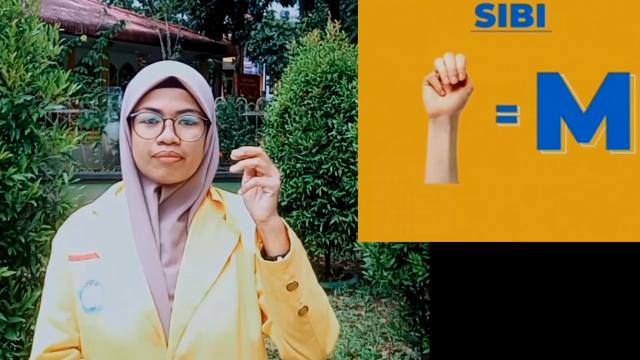M: (420, 54, 472, 182)
